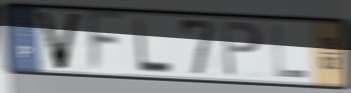7: (176, 17, 218, 77)
F: (85, 9, 128, 76)
L: (132, 15, 175, 76), (270, 24, 309, 81)
P: (220, 19, 265, 80)
V: (34, 9, 87, 72)
